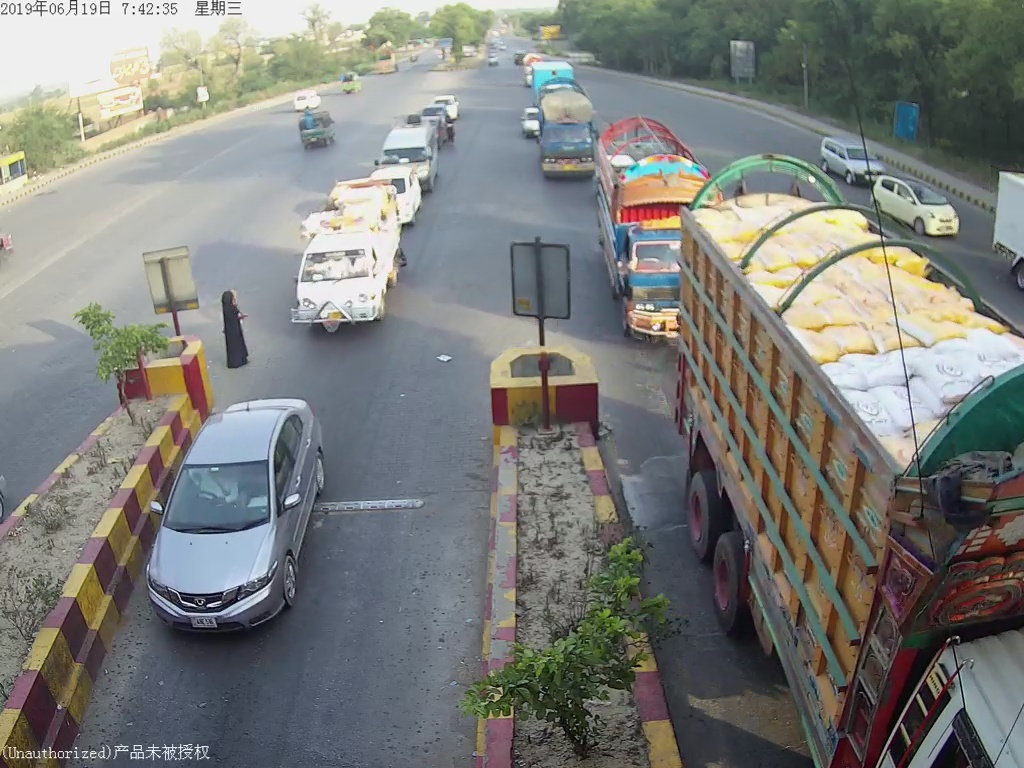Cat-1: (155, 408, 348, 624)
Cat-2: (289, 202, 421, 334), (599, 134, 680, 342)
Cat-4: (538, 92, 592, 180)
